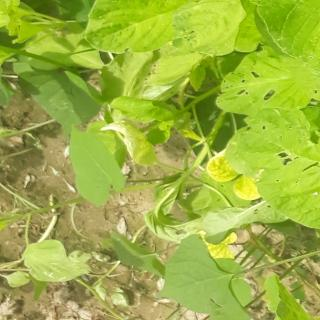virus_keriting: (158, 16, 205, 54), (294, 106, 320, 149)
